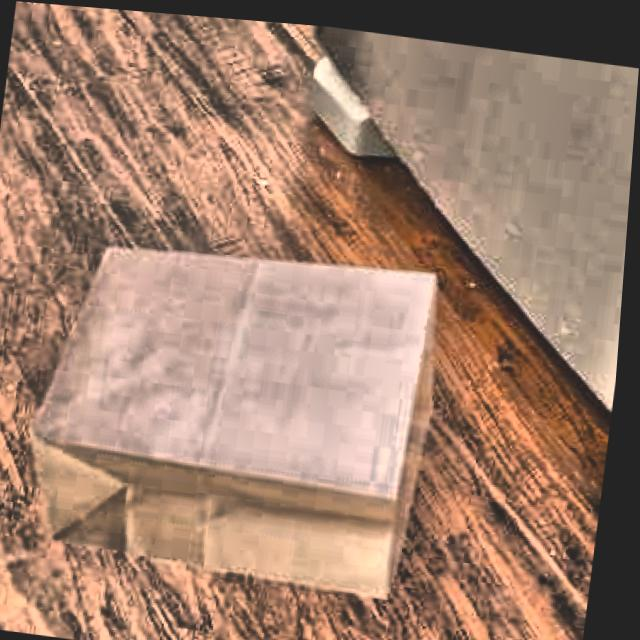Paper-bag: (11, 206, 470, 624)
